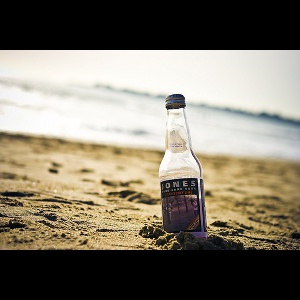emptybottle: (159, 94, 206, 240)
